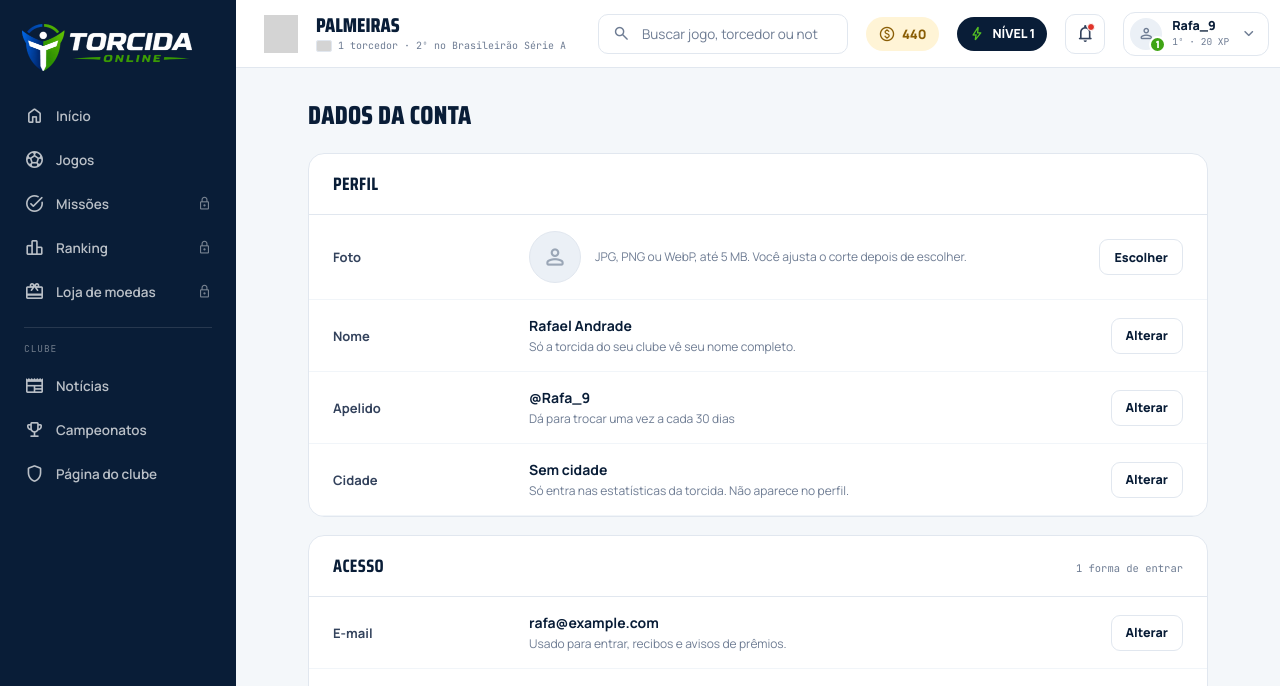
Test: Dados da conta (W21) › perfil › cancelar fecha a edição sem salvar
This screenshot has width=1280, height=686.
Click the button with aria-label "Alterar nome" at {"x": 1147, "y": 336}, box top-left (1110, 318), bottom-right (1183, 354)
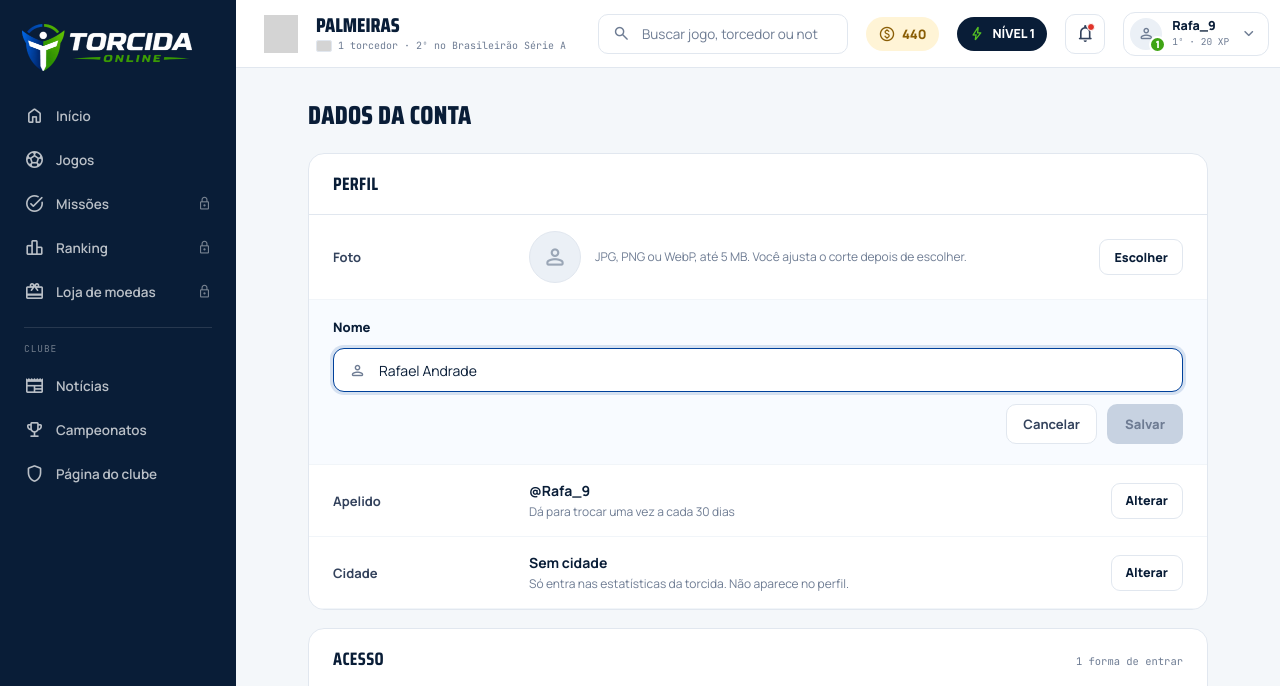
Type "xyz" into the field named "Nome completo" at {"x": 772, "y": 370}, box top-left (377, 360), bottom-right (1168, 380)
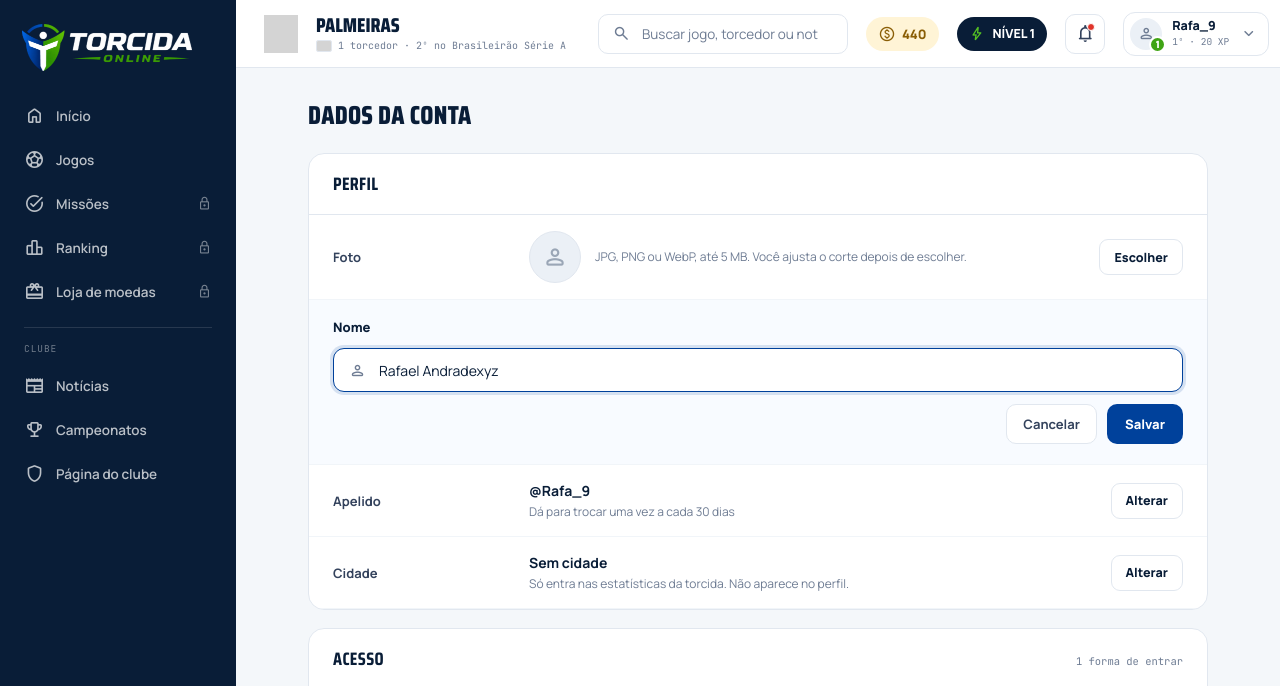
Click the button "Cancelar" at {"x": 1052, "y": 424}, box top-left (1006, 404), bottom-right (1097, 444)
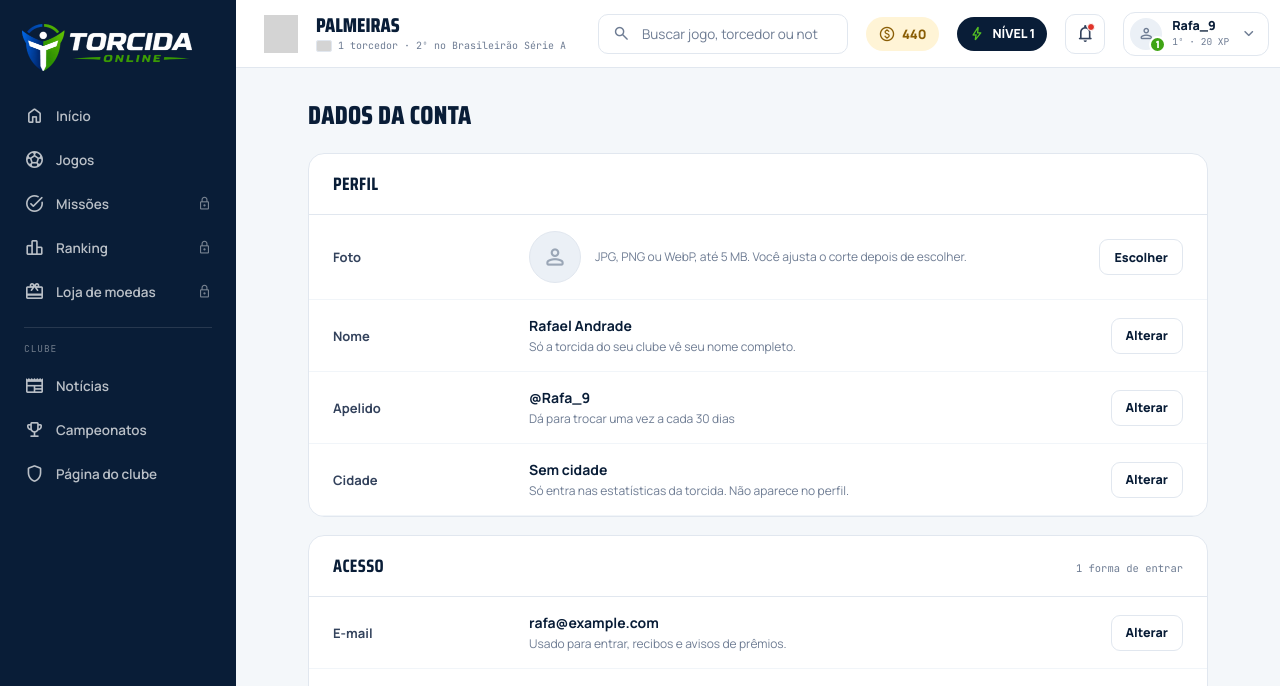
Result: the text "Rafael Andrade" is shown at top-left (529, 316), bottom-right (632, 335)
